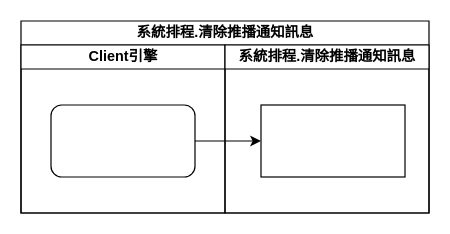
This 450x234 diagram has some shape labels left out. Here are the shapes that lost their labels. From the top down, the centre of each, then its label:
At point (122, 140): "引擎啟動".
At point (332, 140): "建立排程任務 於指定時間執行".
